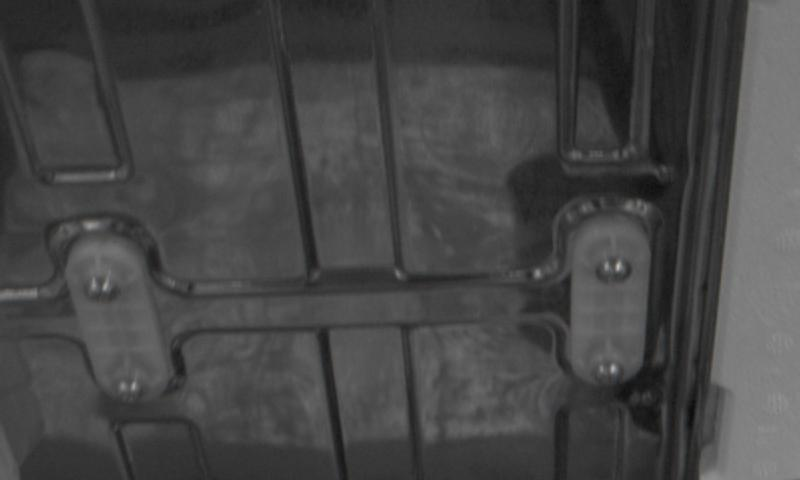vida-ok: (590, 249, 637, 293), (77, 269, 123, 313), (589, 350, 635, 389), (108, 374, 153, 413)
